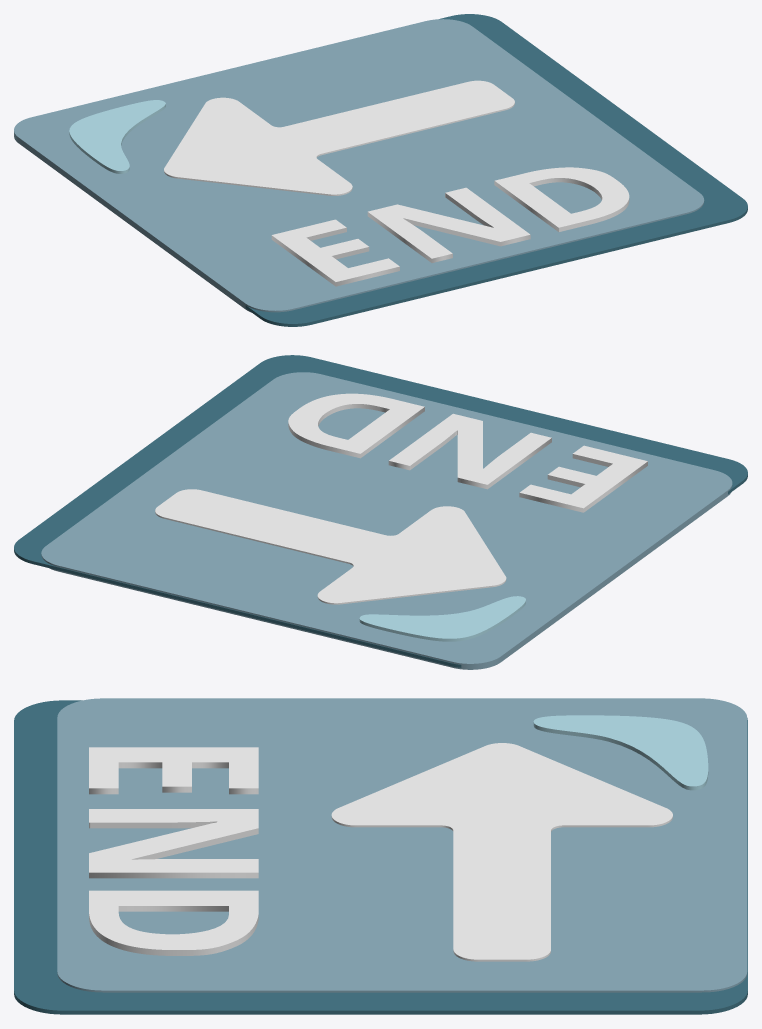
The model's file is emoji_u1f51a.glb.
The picture shows the model from 3 angles, top to bottom: view 1: azimuth 30°, elevation 25°; view 2: azimuth 150°, elevation 25°; view 3: azimuth 270°, elevation 25°; orthographic projection. The views are drawn at different scales.
Visible parts, largest first — view 1: emoji_u1f51a; view 2: emoji_u1f51a; view 3: emoji_u1f51a.
Boxes of the visible parts, x1,y1,x2,y2 form: emoji_u1f51a: [14, 14, 747, 326]; emoji_u1f51a: [14, 355, 747, 669]; emoji_u1f51a: [14, 698, 747, 1014].
Bounding box in the file's own units: 0.0339 × 0.001 × 0.0339.
